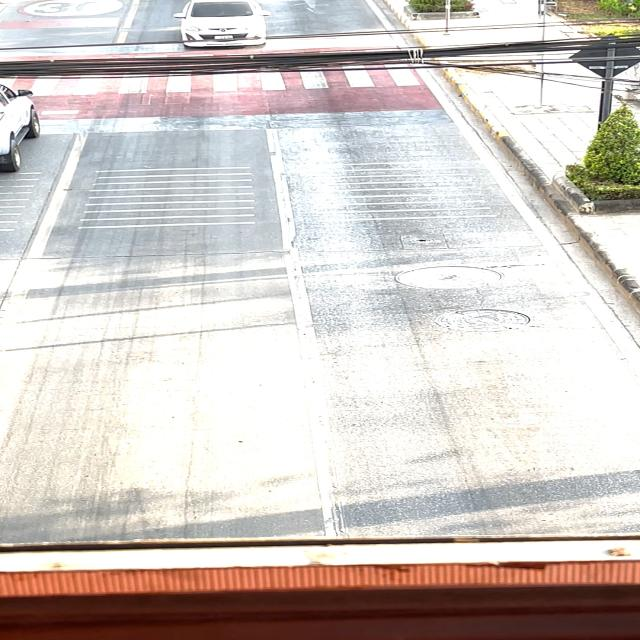car: (162, 0, 291, 65)
